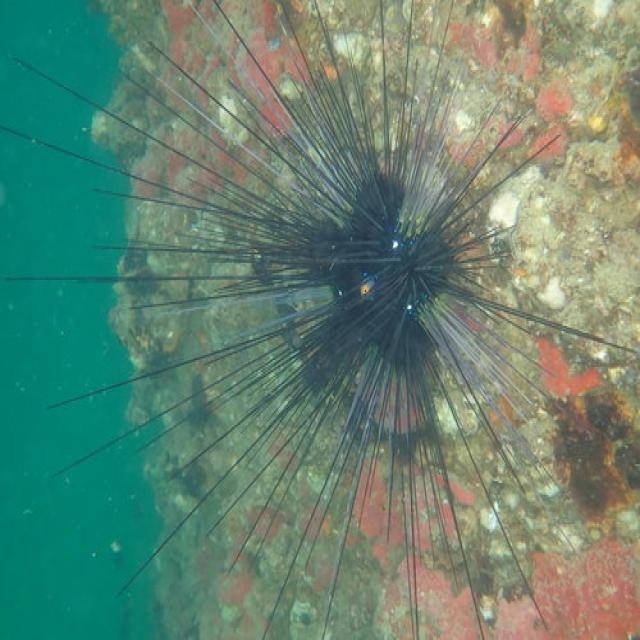Urchin: (14, 15, 620, 613)
